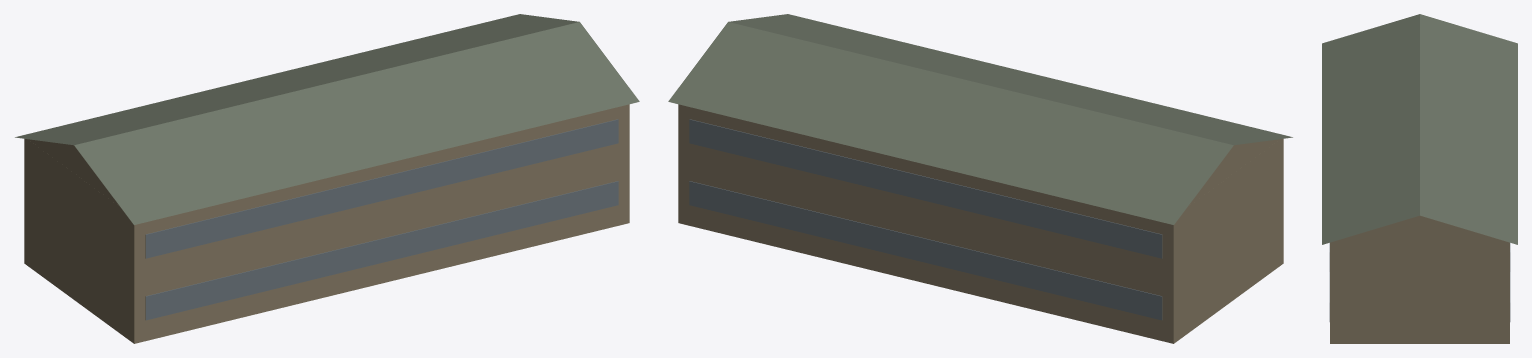
Rendered from barracks-2s.tone-v1.lod2.glb.
The picture shows the model from 3 angles, left to right: view 1: azimuth 30°, elevation 25°; view 2: azimuth 150°, elevation 25°; view 3: azimuth 270°, elevation 25°; orthographic projection. The views are drawn at different scales.
Parts seen in each view (by area): view 1: barracks-2s; view 2: barracks-2s; view 3: barracks-2s.
Part boxes in pixels (left/top/right/bottom): barracks-2s: left=15, top=14, right=639, bottom=343; barracks-2s: left=668, top=14, right=1292, bottom=343; barracks-2s: left=1322, top=14, right=1517, bottom=343.
Size of the model in its own units: 26.54 by 8.01 by 10.9.
